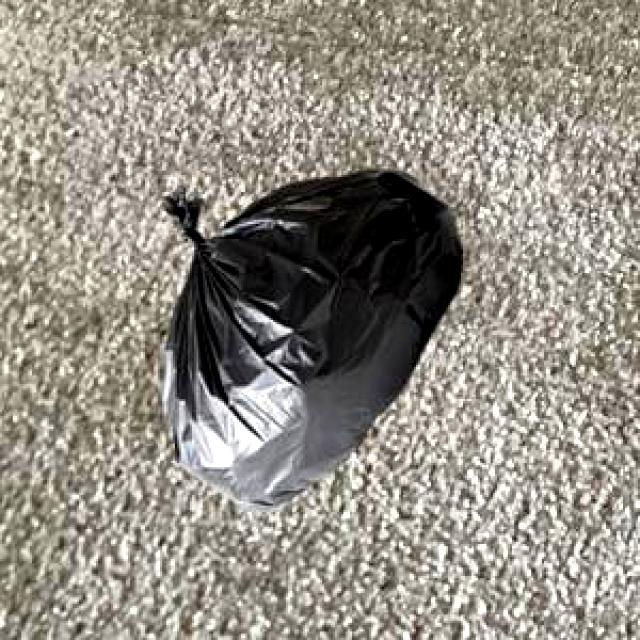Garbage_Bag: (159, 165, 460, 509)
